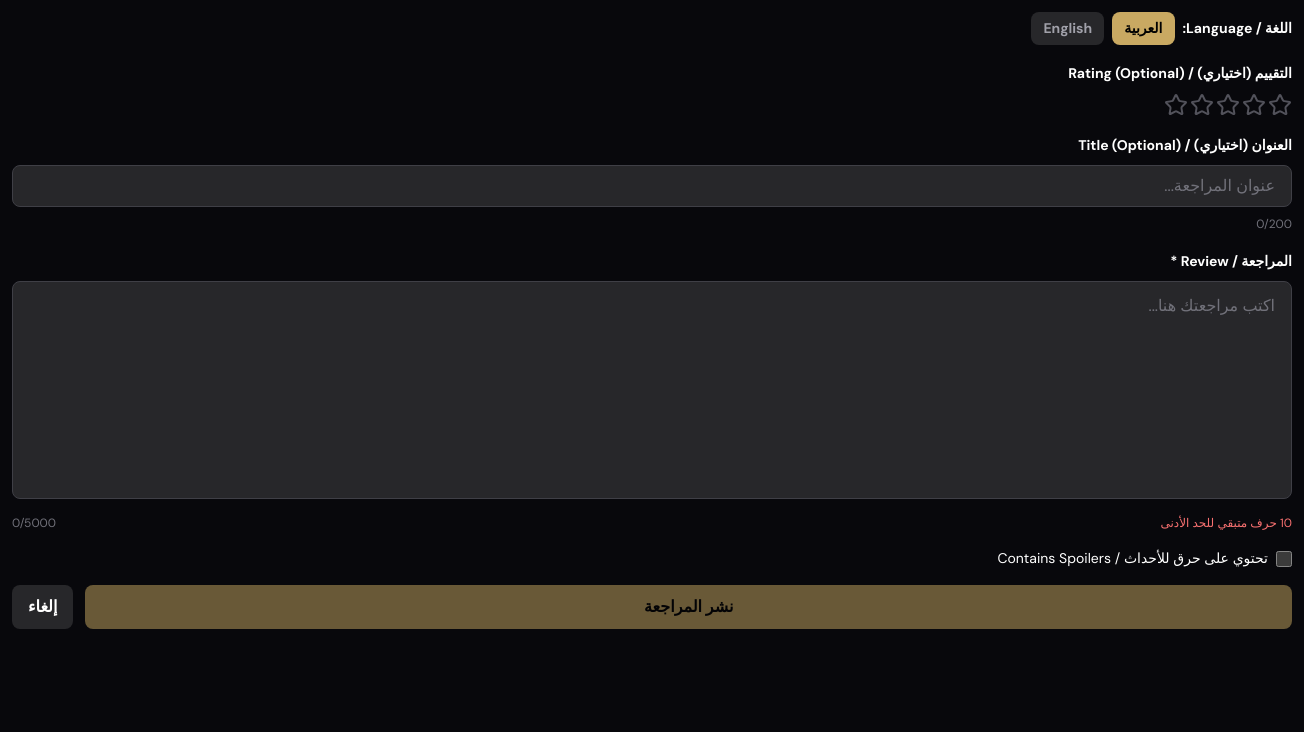
it: ReviewForm - Character counter › should update character count as user types
In the text box with placeholder "اكتب مراجعتك هنا...": (652, 390) [12,281,1292,499], type "Hello world test"
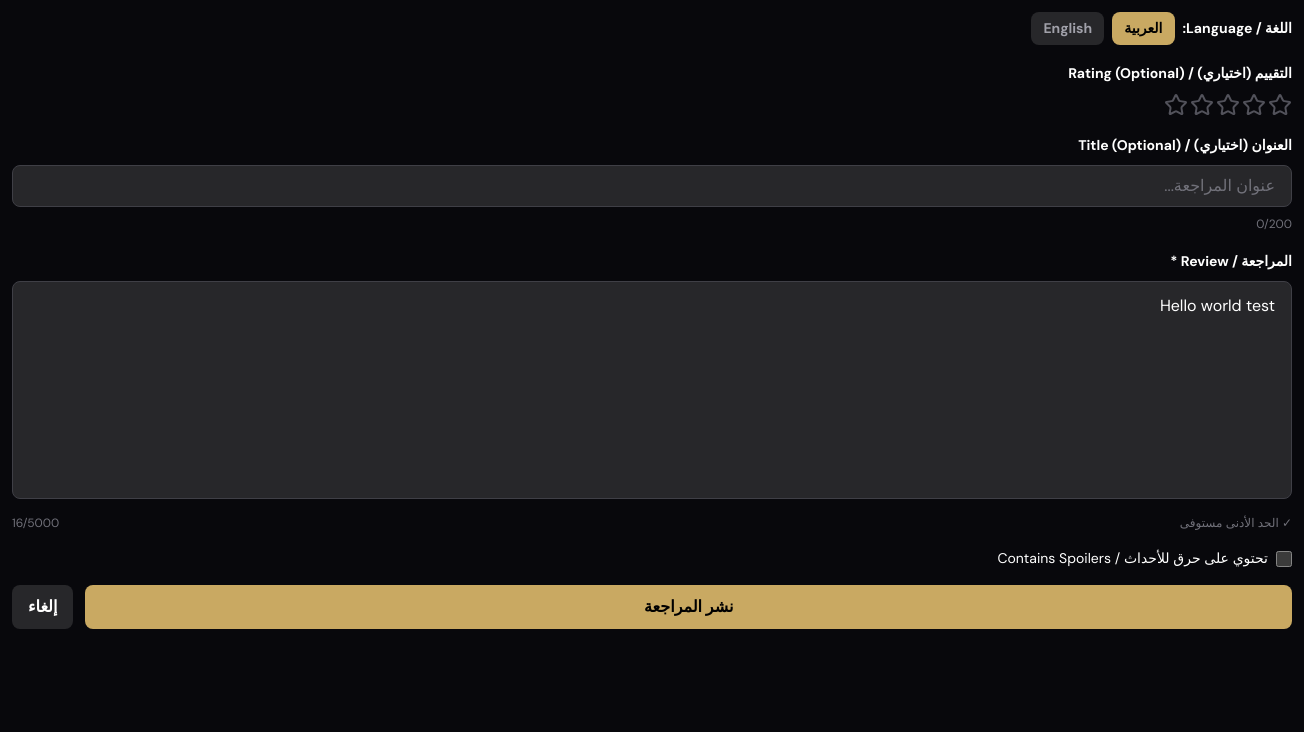
Now the text "16/5000" is shown, box [12,514,59,532]
